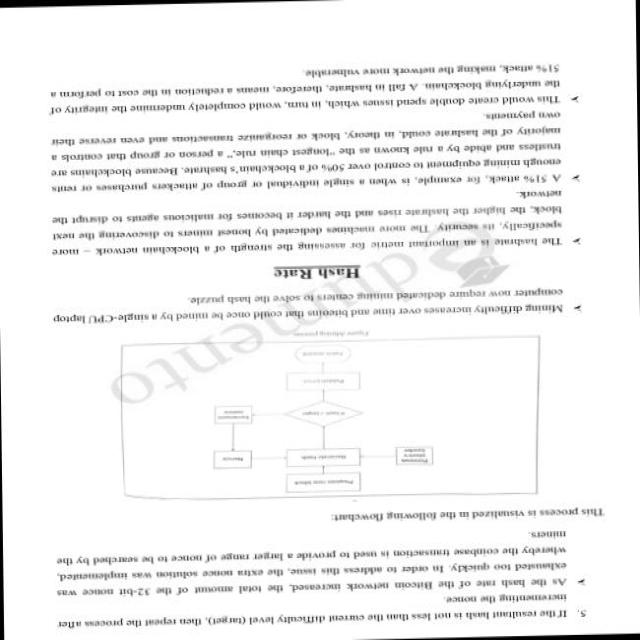Figure Detection - v3 Dataset Version2: (112, 326, 550, 511)
